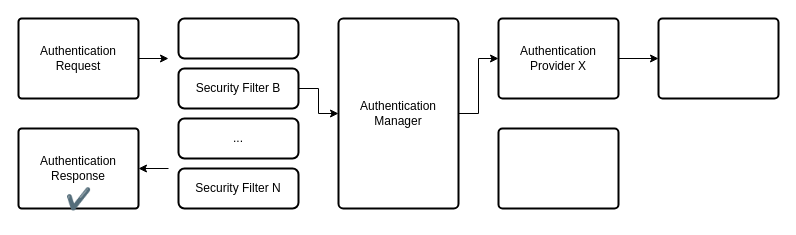
Some shapes in this 796 by 235 pixel diagram are drawn without their labels. The shapes that lost their labels are listed below. From the top down, each one's centre as x and y in pixels, then its label:
At point 238,38: "Security Filter A".
At point 718,58: "User Details Service".
At point 558,168: "Authentication Provider Y".
